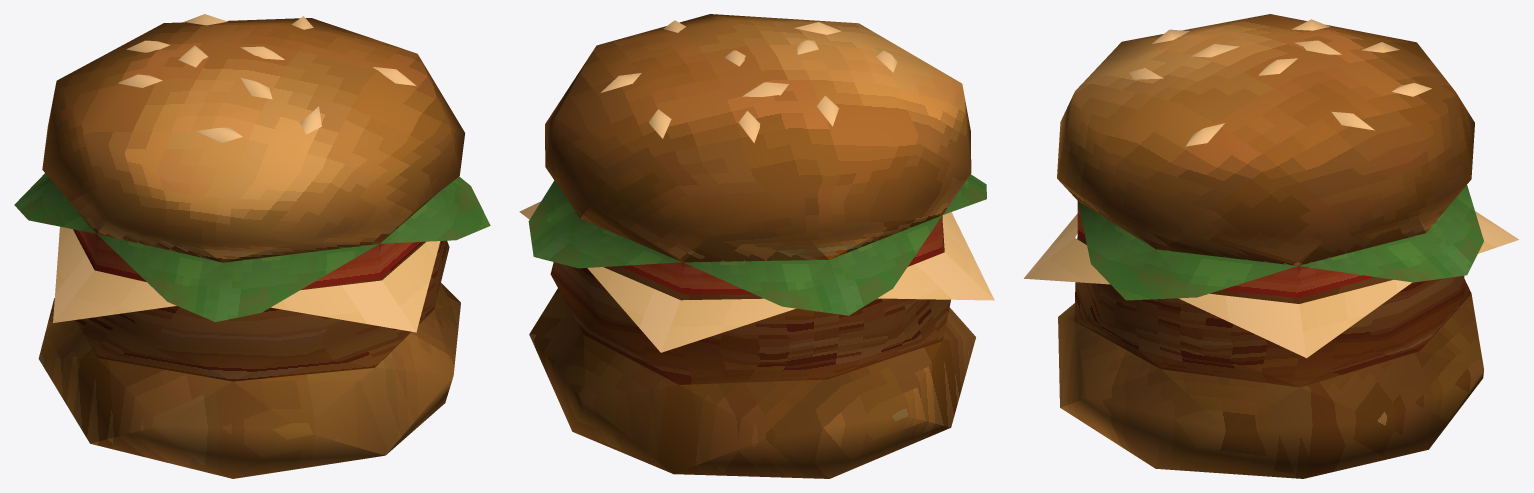
The model's file is krabbypatty.glb.
3 views of the same model, side by side, from view 1: azimuth 30°, elevation 25°; view 2: azimuth 150°, elevation 25°; view 3: azimuth 270°, elevation 25° (orthographic).
Visible parts, largest first — view 1: mesh0333.rip; view 2: mesh0333.rip; view 3: mesh0333.rip.
Part boxes in pixels (<box>): mesh0333.rip: <box>14,14,490,478</box>; mesh0333.rip: <box>519,14,994,478</box>; mesh0333.rip: <box>1024,14,1518,478</box>.
Size of the model in its own units: 1.51 by 1.19 by 1.48.
1 material, 1 textured.
